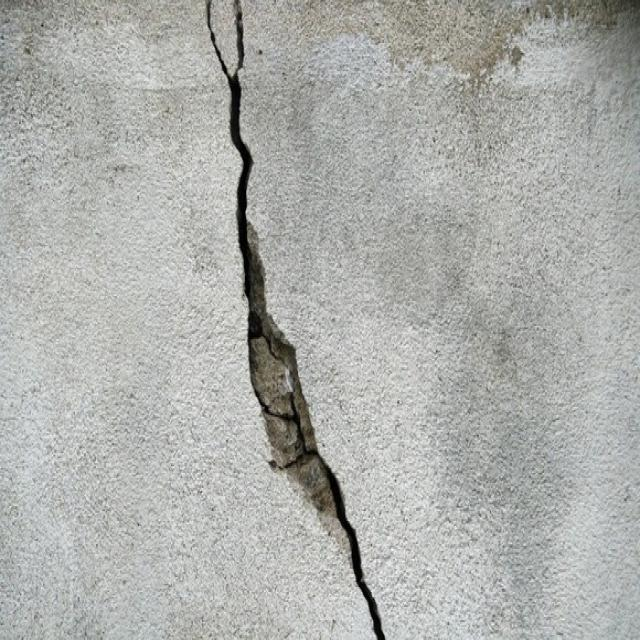Crack: (206, 0, 384, 639)
